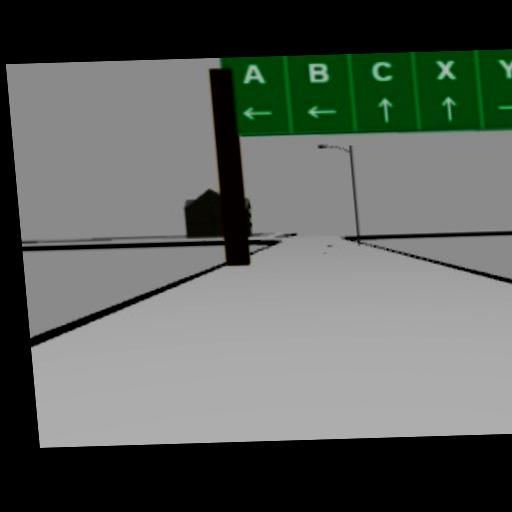A: (239, 62, 266, 86)
B: (307, 62, 330, 84)
C: (370, 60, 395, 82)
Left: (239, 105, 274, 120), (303, 103, 338, 118)
Right: (496, 100, 512, 115)
Straight: (439, 94, 457, 120), (377, 96, 393, 122)
X: (434, 58, 457, 80)
Y: (495, 57, 512, 79)
